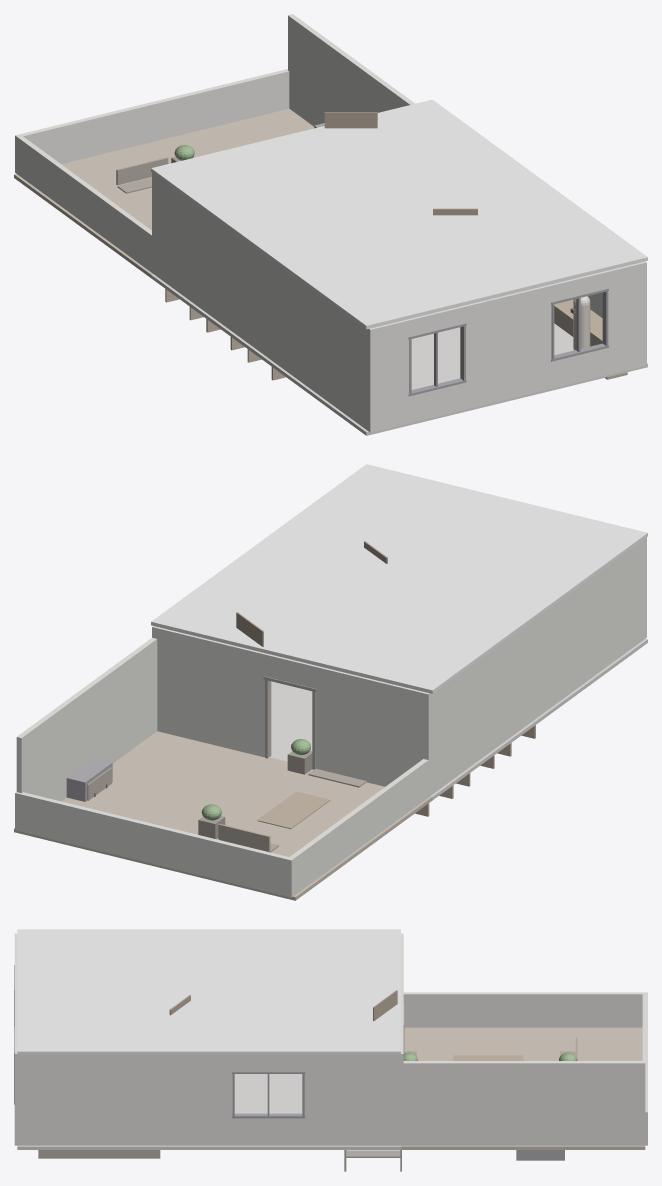
3 renders of one model, top to bottom at view 1: azimuth 30°, elevation 25°; view 2: azimuth 150°, elevation 25°; view 3: azimuth 270°, elevation 25°, orthographic. The views are drawn at different scales.
Visible parts, largest first — view 1: ceiling, w_off, n_par, w_lob, s_b, floor_terrace, e_ter, w_par, s_a, floor_lobby, s_c, s_w2b (+10 smaller); view 2: ceiling, floor_terrace, e_ter, w_off, i2_b, n_par, i2_a, w_lob, w_par, floor_office, signing_cabinet, communal_table (+4 smaller); view 3: ceiling, e_ter, e_lob, e_off_b, floor_terrace, w_par, e_off_a, floor_office, e_off_wb, e_off_wt, reception_counter, win_e (+8 smaller).
Part boxes in pixels (x1,y1,x2,y2): ceiling: (151,99,647,329); w_off: (155,175,269,358); n_par: (15,69,289,173); w_lob: (272,261,368,430); s_b: (463,284,552,409); floor_terrace: (14,108,314,277); e_ter: (288,14,414,126); w_par: (16,135,151,272); s_a: (367,319,410,432); floor_lobby: (268,323,647,435); s_c: (606,261,646,374); s_w2b: (552,348,606,388); ceiling: (151,464,647,693); floor_terrace: (14,731,432,900); e_ter: (16,637,157,801); w_off: (431,610,547,794); i2_b: (152,626,267,757); n_par: (15,792,294,897); i2_a: (314,665,431,796); w_lob: (549,538,645,708); w_par: (289,759,428,895); floor_office: (269,681,549,799); signing_cabinet: (66,758,112,801); communal_table: (257,791,330,829); ceiling: (17,929,400,1054); e_ter: (401,1061,645,1145); e_lob: (17,1055,191,1145); e_off_b: (303,1055,400,1145); floor_terrace: (401,1027,645,1149); w_par: (403,992,645,1027); e_off_a: (191,1055,233,1145); floor_office: (191,1074,400,1149); e_off_wb: (233,1118,303,1145); e_off_wt: (233,1055,303,1071); reception_counter: (38,1150,160,1158); win_e: (232,1072,305,1118).
Bounding box in the file's own units: 8.3 × 4.33 × 18.17.
